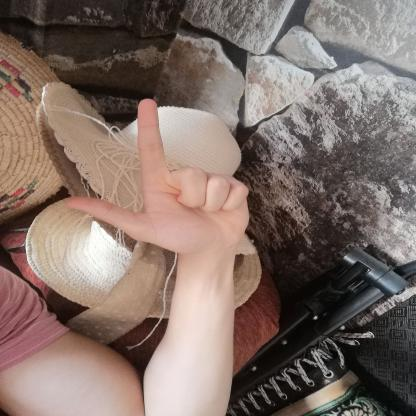LAAM: (50, 86, 261, 262)
